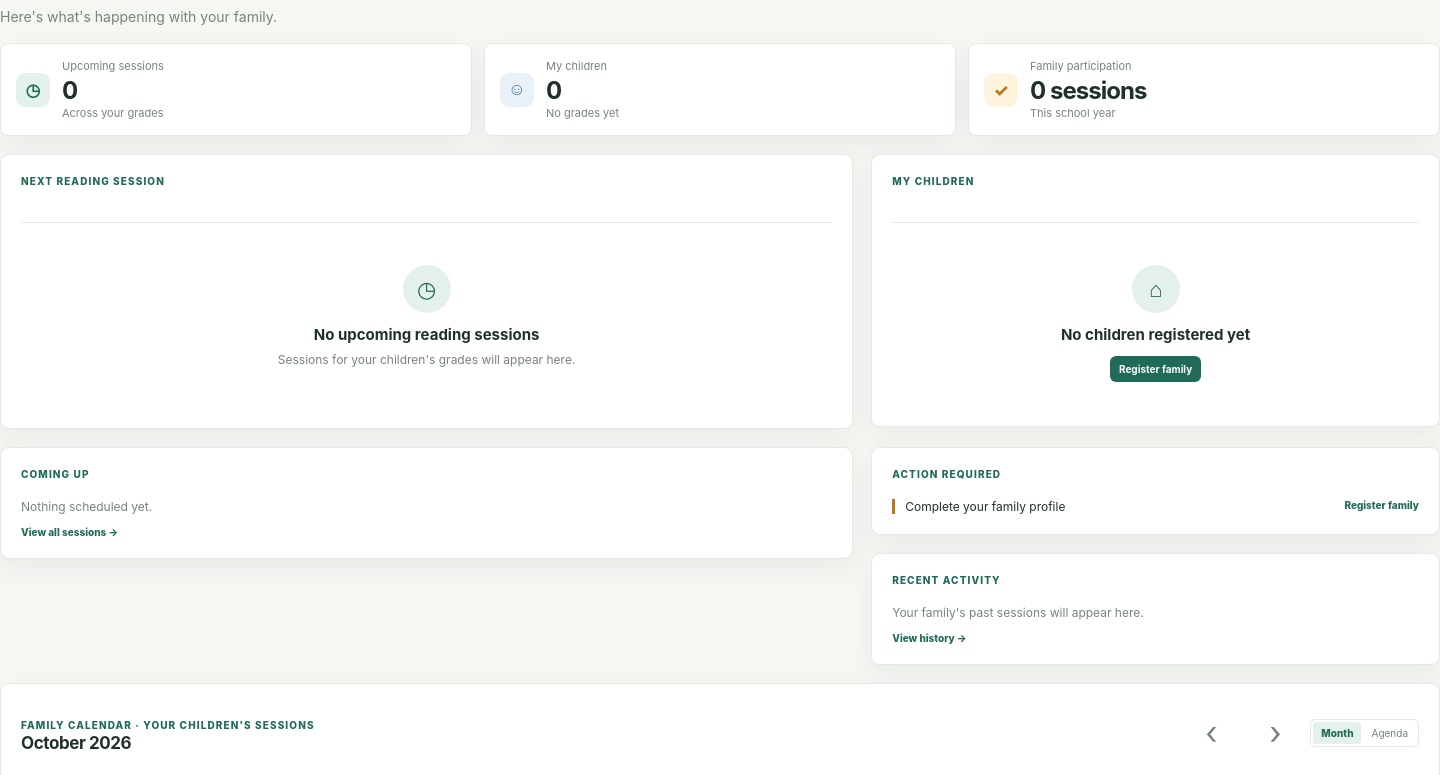
Test: asks to complete the family profile and switches the calendar to agenda
Expected: the text "Complete your family profile" is shown, [905,499,1065,514]
Expected: the text "No children registered yet" is shown, [1061,325,1250,344]
Step 1. Click the button "Agenda" → (1390, 733), box [1364,722,1416,744]
(page scrolled)
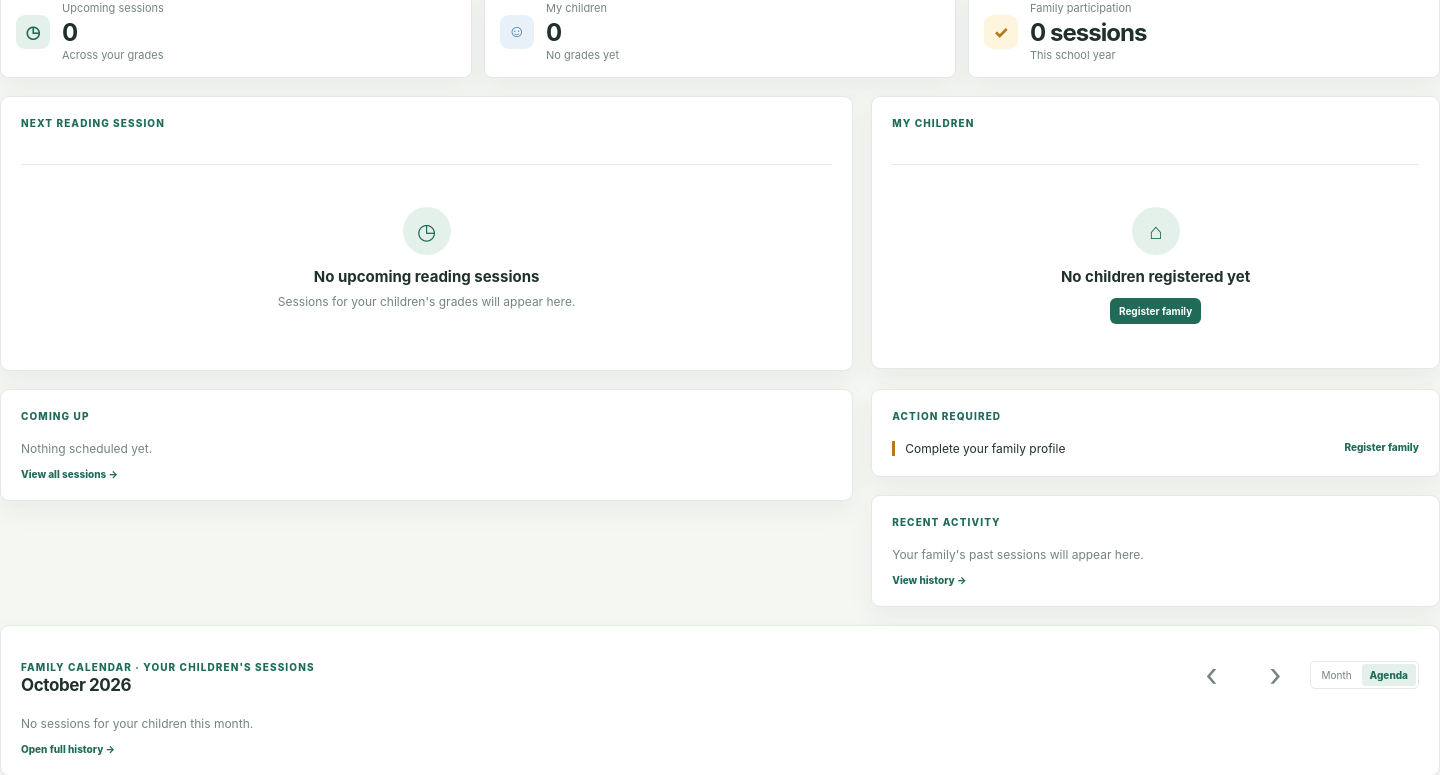
Expected: the text "No sessions for your children this month." is shown, [21,716,253,731]
